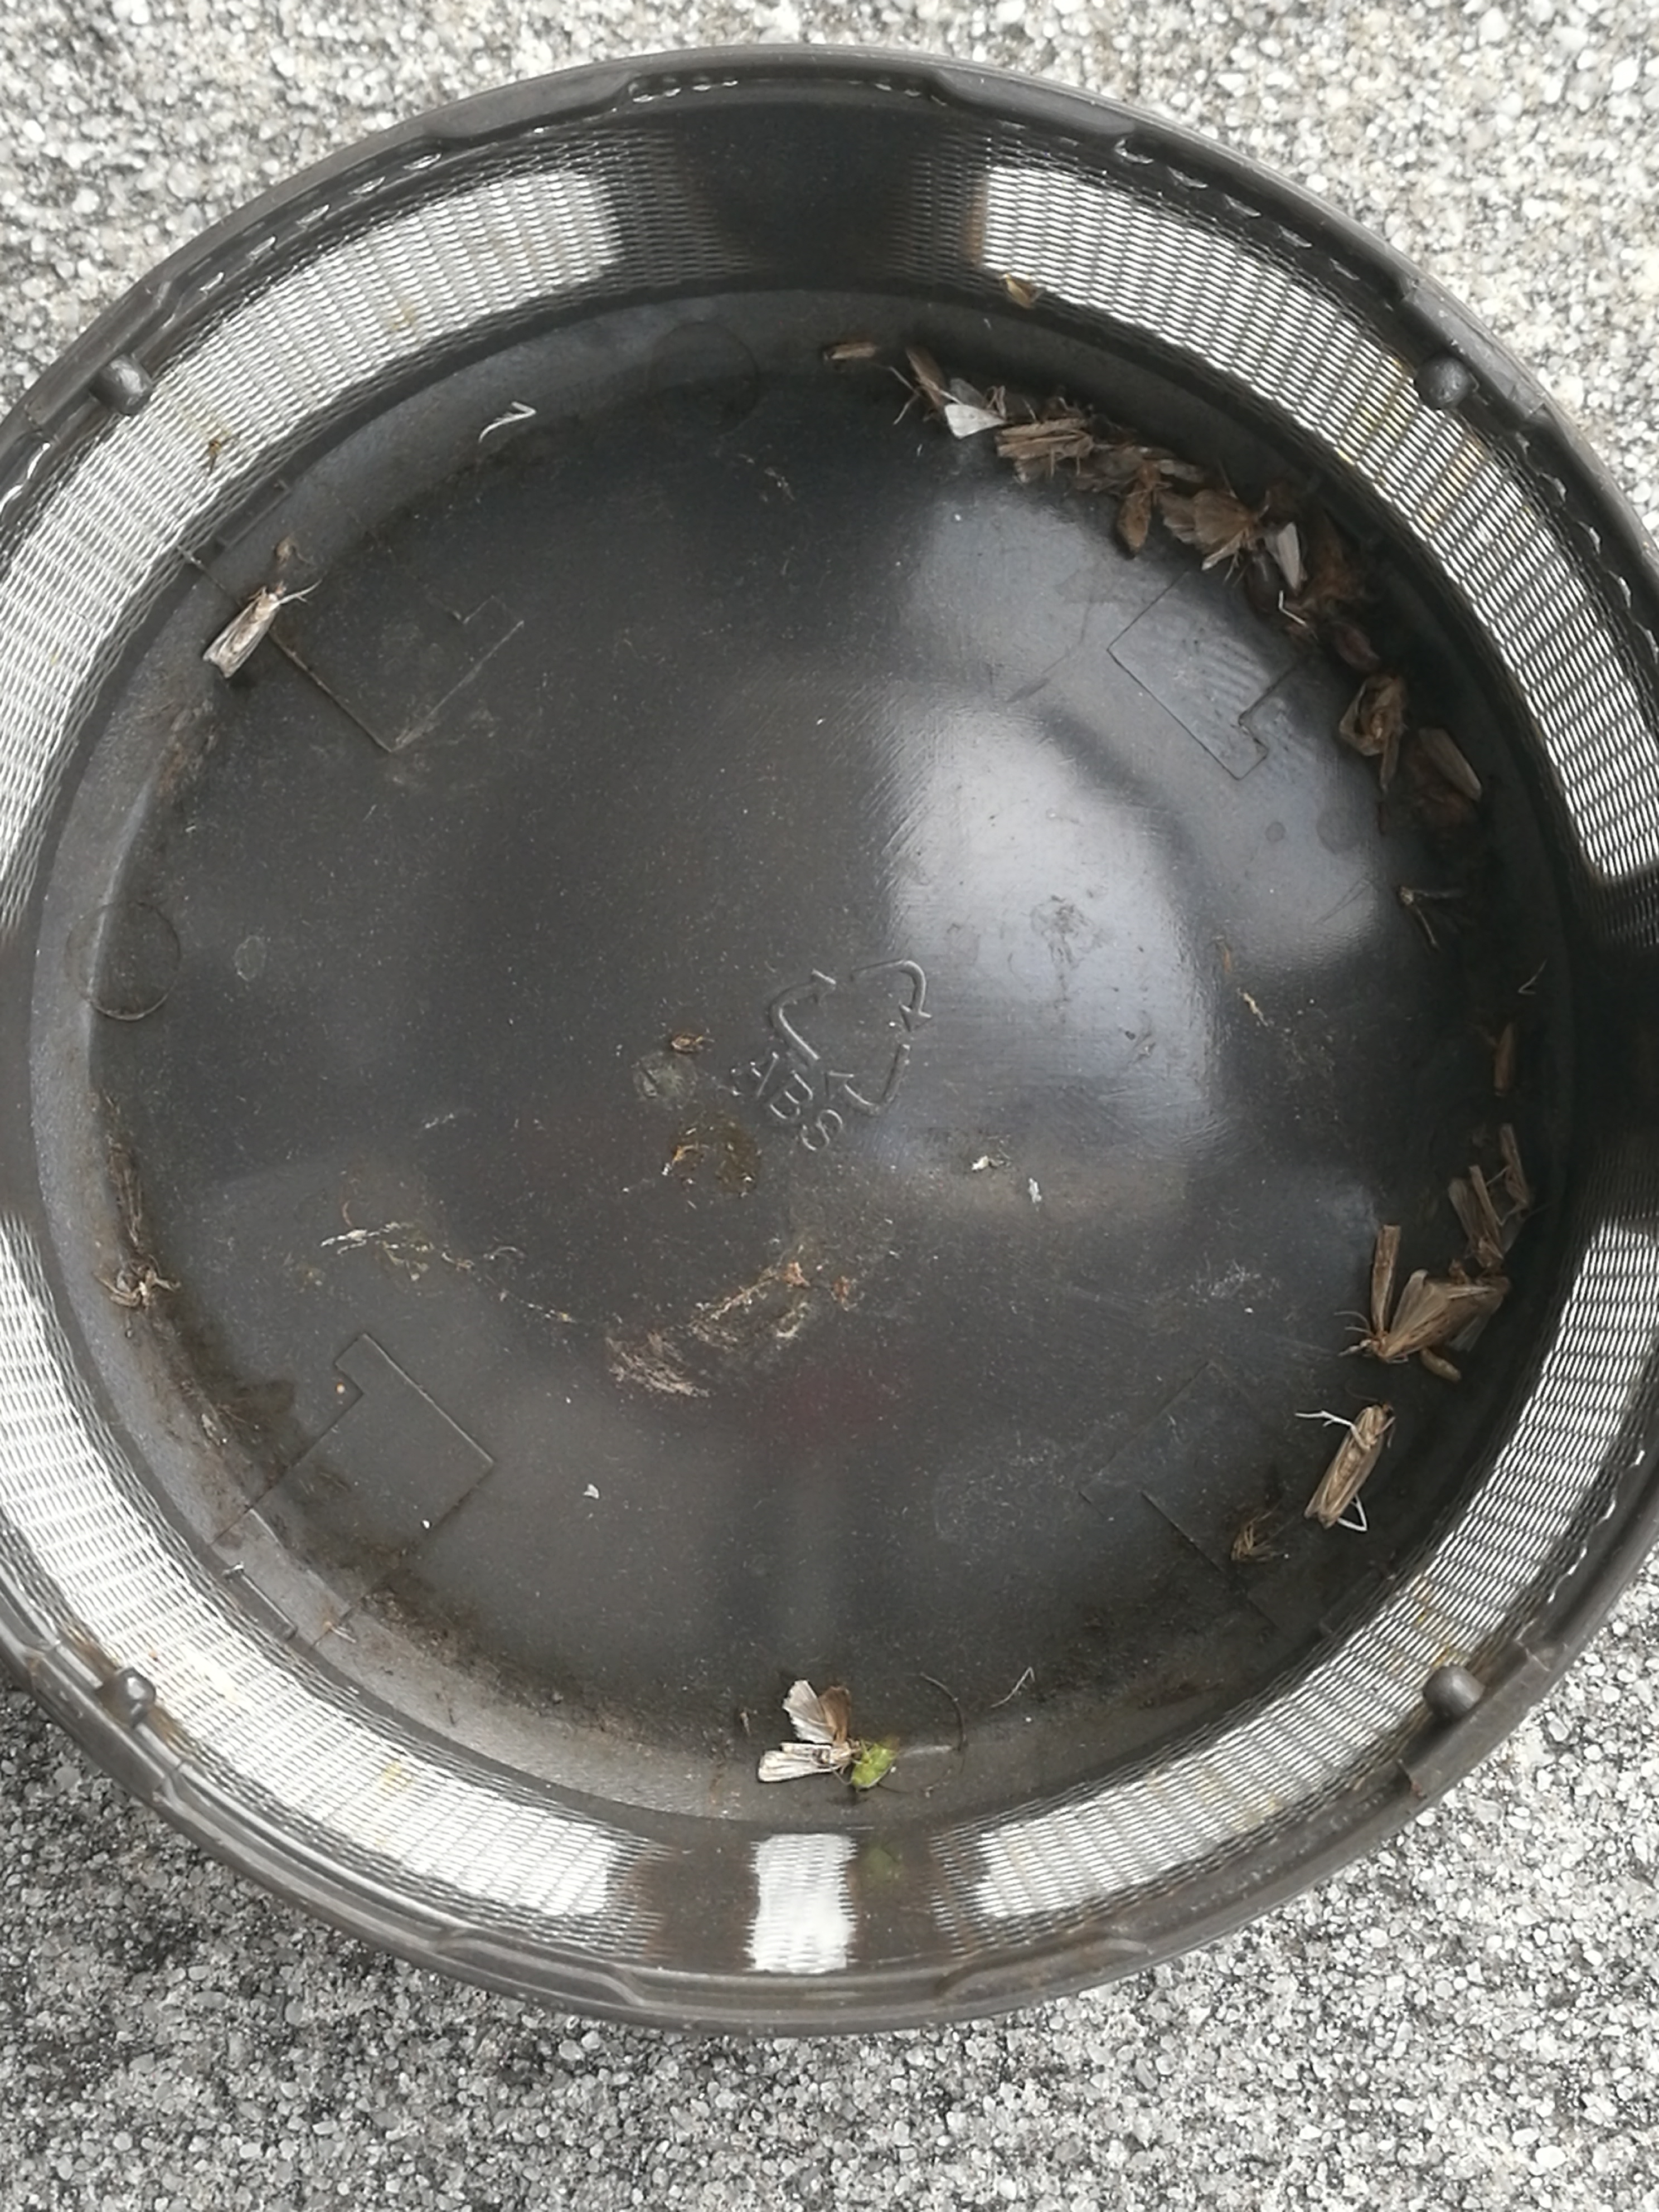beetle: (1361, 674, 1401, 745)
mosquito: (1307, 1402, 1394, 1527), (202, 583, 284, 679), (906, 343, 946, 408), (997, 434, 1094, 460), (1500, 1123, 1530, 1204), (1493, 1024, 1514, 1104), (1002, 420, 1084, 439), (1150, 456, 1202, 479), (819, 343, 878, 361)
moth: (1342, 1224, 1474, 1362), (758, 1683, 850, 1784), (1161, 484, 1260, 568), (1450, 1183, 1530, 1270), (943, 381, 1007, 439), (1115, 467, 1148, 554), (1262, 519, 1300, 594)
